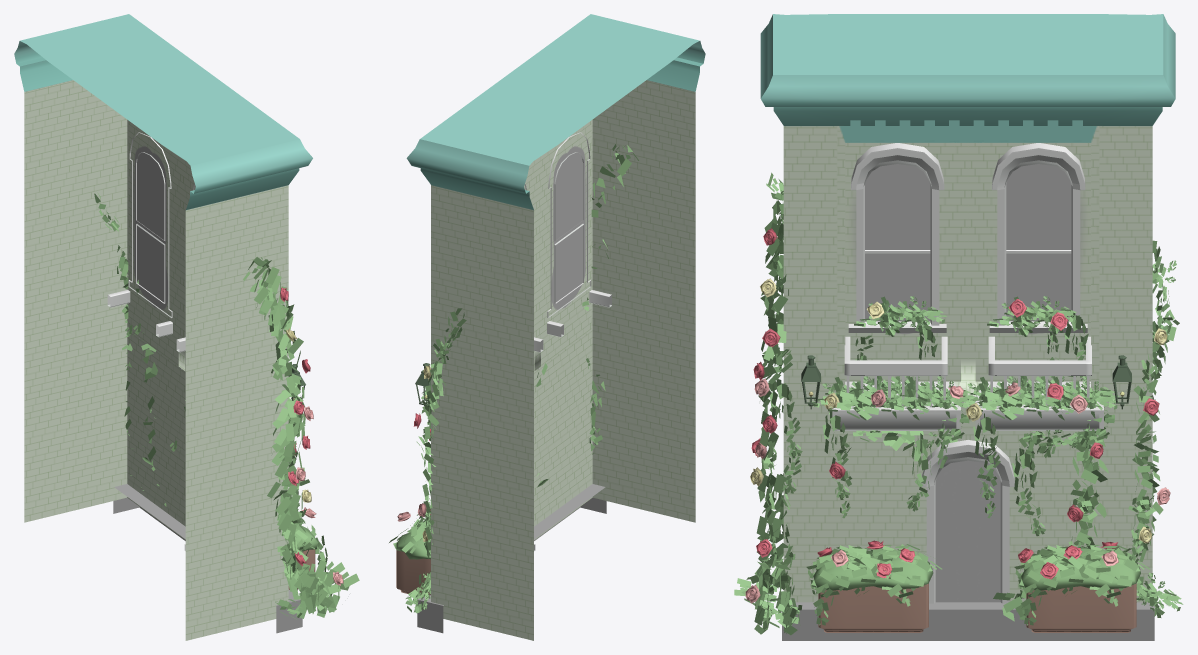
File: Back_House_C.fbx
3 views of the same model, side by side, from view 1: azimuth 30°, elevation 25°; view 2: azimuth 150°, elevation 25°; view 3: azimuth 270°, elevation 25° (orthographic). The views are drawn at different scales.
Visible parts, largest first — view 1: pCube26, pCube55, polySurface261, dodai_C, polySurface23, polySurface262, polySurface241, polySurface253, pCube50; view 2: pCube55, pCube26, dodai_C, polySurface253, polySurface24, polySurface26, polySurface261, polySurface255, polySurface254, pCube50, polySurface27, polySurface262; view 3: pCube55, pCube26, polySurface26 (×2), dodai_C, polySurface24, polySurface23, polySurface261, polySurface25, pCube50 (×2), polySurface253, polySurface27 (×2), polySurface241 (+16 smaller).
Boxes of the visible parts, x1,y1,x2,y2 form: pCube26: (14,14,214,539); pCube55: (105,76,312,640); polySurface261: (243,257,359,618); dodai_C: (113,484,302,633); polySurface23: (128,132,172,317); polySurface262: (275,492,344,610); polySurface241: (141,340,166,506); polySurface253: (117,245,132,435); pCube50: (107,290,172,337); pCube55: (505,14,705,540); pCube26: (406,76,614,640); dodai_C: (417,484,606,633); polySurface253: (416,357,446,558); polySurface24: (547,132,591,317); polySurface26: (396,550,430,594); polySurface261: (591,144,638,268); polySurface255: (405,571,430,613); polySurface254: (433,308,466,363); pCube50: (547,290,611,337); polySurface27: (395,518,430,559); polySurface262: (589,374,605,454); pCube55: (760,14,968,602); pCube26: (968,14,1175,602); polySurface26 (×2): (818,583,1136,632); dodai_C: (782,602,1154,640); polySurface24: (848,143,946,332); polySurface23: (989,143,1087,332); polySurface261: (750,172,791,634); polySurface25: (921,440,1014,603); pCube50 (×2): (844,336,1091,375); polySurface253: (1114,303,1179,562); polySurface27 (×2): (813,550,1140,590); polySurface241: (993,431,1108,621).
Size of the model in its own units: 204 by 586 by 425.
